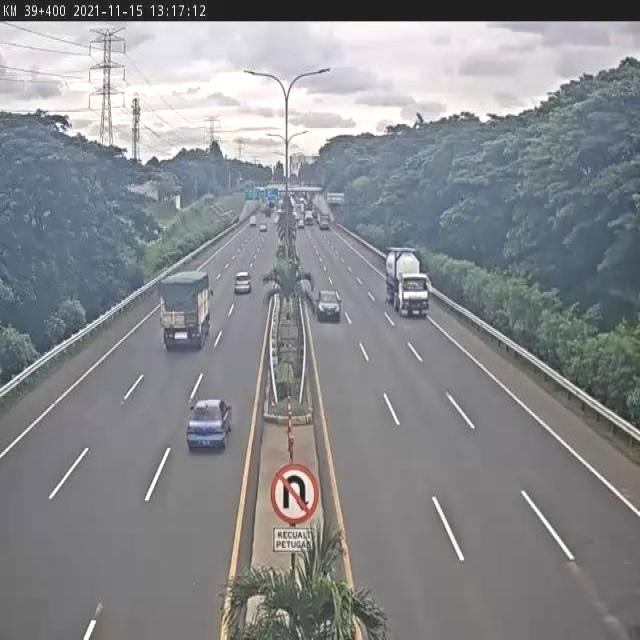Car: (186, 398, 232, 454), (317, 288, 343, 318), (232, 270, 252, 294)
Truck: (159, 270, 213, 349), (385, 250, 430, 316)
